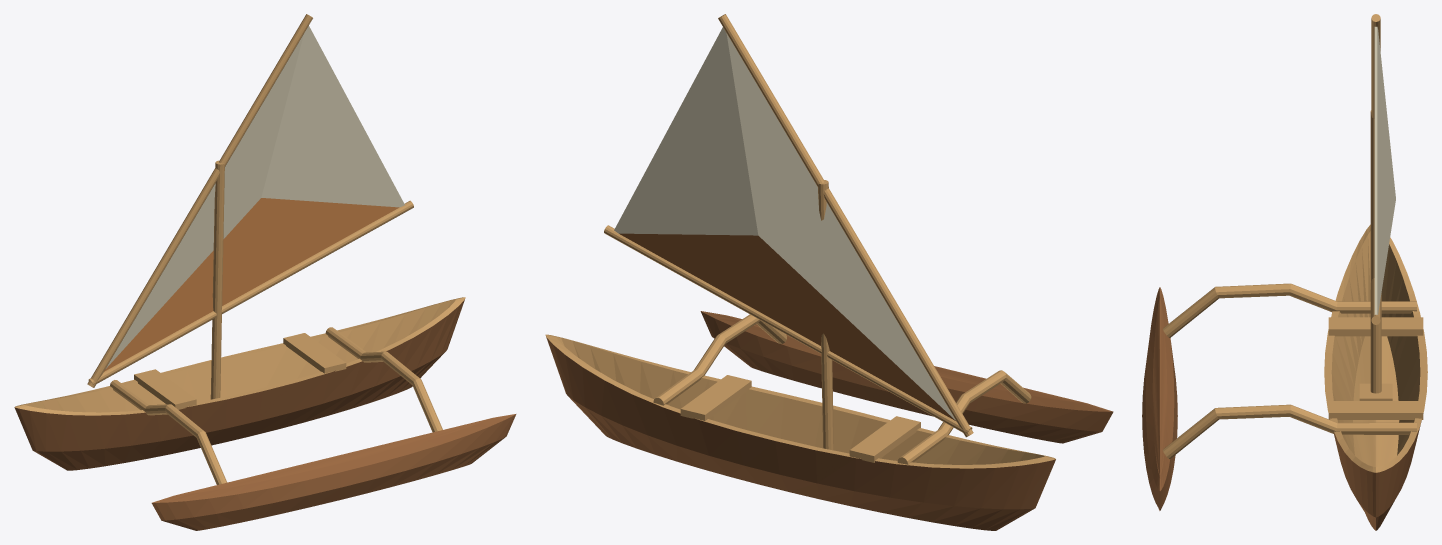
3 renders of one model, left to right at view 1: azimuth 30°, elevation 25°; view 2: azimuth 150°, elevation 25°; view 3: azimuth 270°, elevation 25°, orthographic. The views are drawn at different scales.
Parts seen in each view (by area): view 1: WholeBowedTriangularSail, WholeOpenMainHull, WholeSingleSideFloat, WholeUpperDivergentSpar, WholeLowerDivergentSpar, WholeLeaningSupportMast, WholeCurvedOutriggerBoom_0.65, WholeCurvedOutriggerBoom_-0.65, WholeCrossSeat_0.45, WholeCrossSeat_-0.45; view 2: WholeBowedTriangularSail, WholeOpenMainHull, WholeSingleSideFloat, WholeUpperDivergentSpar, WholeLowerDivergentSpar, WholeCurvedOutriggerBoom_0.65, WholeCurvedOutriggerBoom_-0.65, WholeCrossSeat_0.45, WholeCrossSeat_-0.45, WholeLeaningSupportMast; view 3: WholeOpenMainHull, WholeSingleSideFloat, WholeBowedTriangularSail, WholeCurvedOutriggerBoom_0.65, WholeCurvedOutriggerBoom_-0.65, WholeCrossSeat_0.45, WholeLeaningSupportMast, WholeCrossSeat_-0.45, WholeUpperDivergentSpar, WholeLowMastStep.
Boxes of the visible parts, x1,y1,x2,y2 form: WholeBowedTriangularSail: (104, 26, 404, 371); WholeOpenMainHull: (14, 297, 465, 470); WholeSingleSideFloat: (151, 414, 516, 530); WholeUpperDivergentSpar: (87, 14, 312, 387); WholeLowerDivergentSpar: (88, 200, 413, 384); WholeLeaningSupportMast: (210, 160, 224, 399); WholeCurvedOutriggerBoom_0.65: (325, 327, 442, 432); WholeCurvedOutriggerBoom_-0.65: (110, 380, 227, 484); WholeCrossSeat_0.45: (283, 333, 346, 373); WholeCrossSeat_-0.45: (134, 369, 196, 409); WholeBowedTriangularSail: (614, 27, 956, 421); WholeOpenMainHull: (545, 334, 1055, 530); WholeSingleSideFloat: (700, 311, 1113, 443); WholeUpperDivergentSpar: (718, 14, 973, 437); WholeLowerDivergentSpar: (604, 225, 972, 433); WholeCurvedOutriggerBoom_0.65: (653, 314, 786, 405); WholeCurvedOutriggerBoom_-0.65: (897, 370, 1031, 464); WholeCrossSeat_0.45: (680, 375, 751, 420); WholeCrossSeat_-0.45: (849, 416, 920, 462); WholeLeaningSupportMast: (818, 180, 833, 450); WholeOpenMainHull: (1324, 224, 1427, 530); WholeSingleSideFloat: (1142, 287, 1177, 510); WholeBowedTriangularSail: (1374, 26, 1395, 314); WholeCurvedOutriggerBoom_0.65: (1163, 404, 1416, 458); WholeCurvedOutriggerBoom_-0.65: (1163, 283, 1416, 337); WholeCrossSeat_0.45: (1328, 401, 1423, 419); WholeLeaningSupportMast: (1370, 110, 1381, 393); WholeCrossSeat_-0.45: (1328, 317, 1423, 336); WholeUpperDivergentSpar: (1371, 14, 1380, 118); WholeLowMastStep: (1359, 383, 1392, 400).
Bounding box in the file's own units: 2.72 × 2.29 × 1.3.
